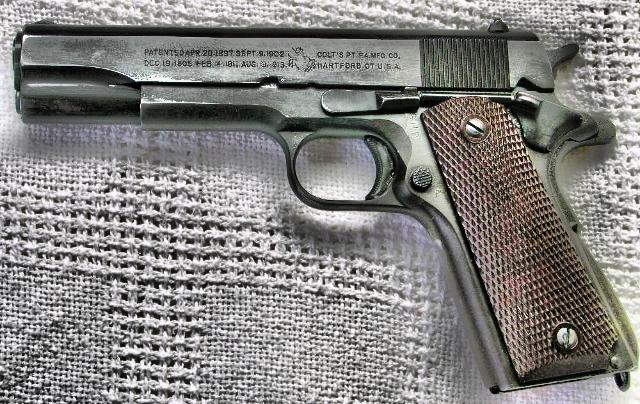pistol: (11, 19, 638, 391)
